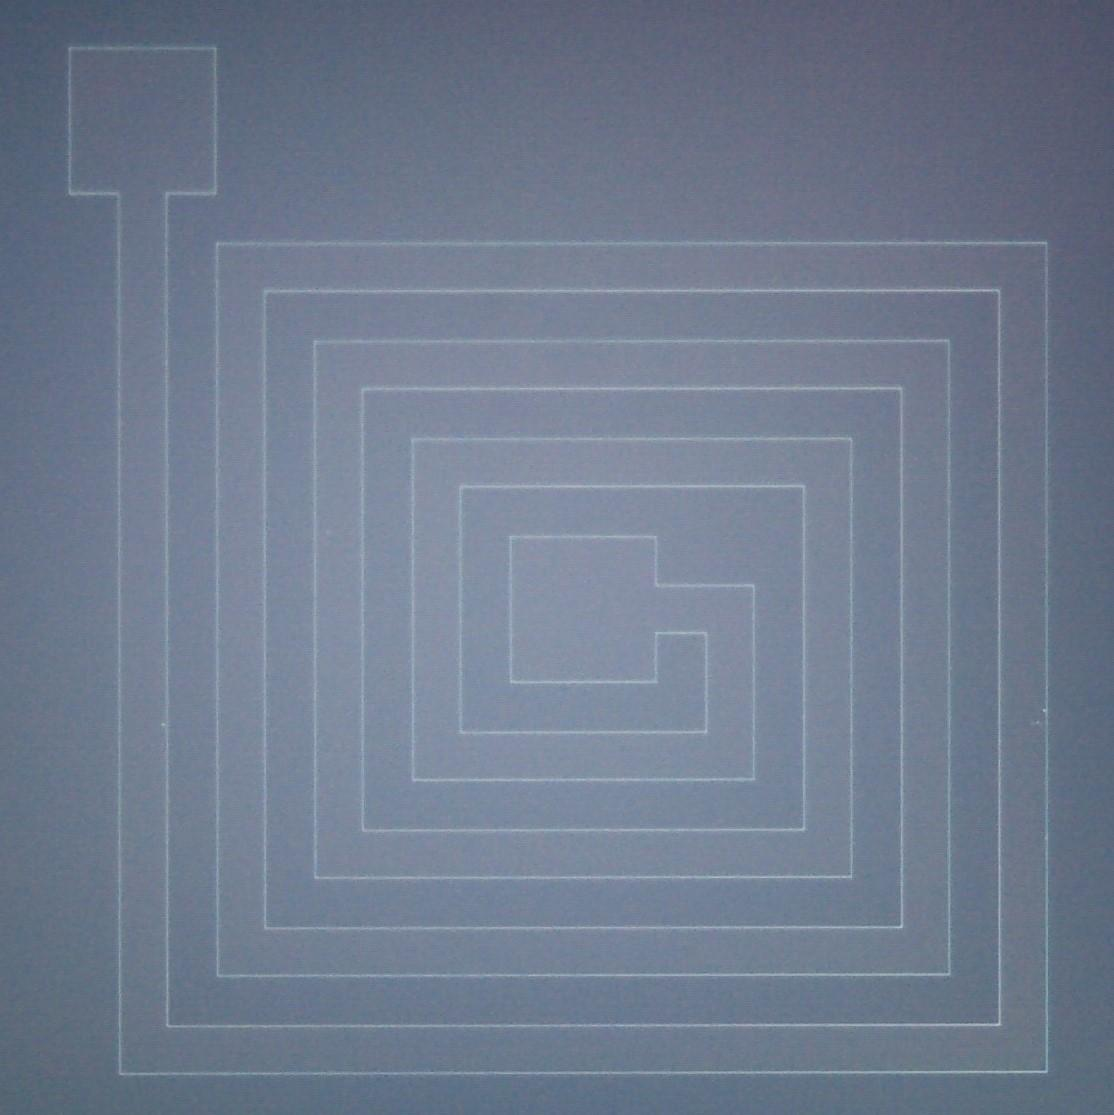s_point: (157, 720, 168, 729), (1040, 706, 1049, 715), (1031, 718, 1041, 727)
